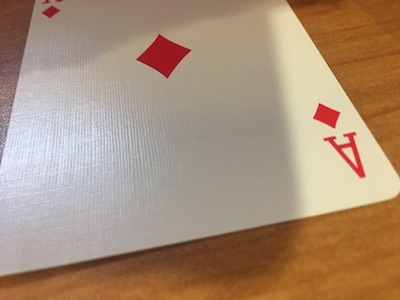AceOfDiamonds: (1, 1, 398, 290)
